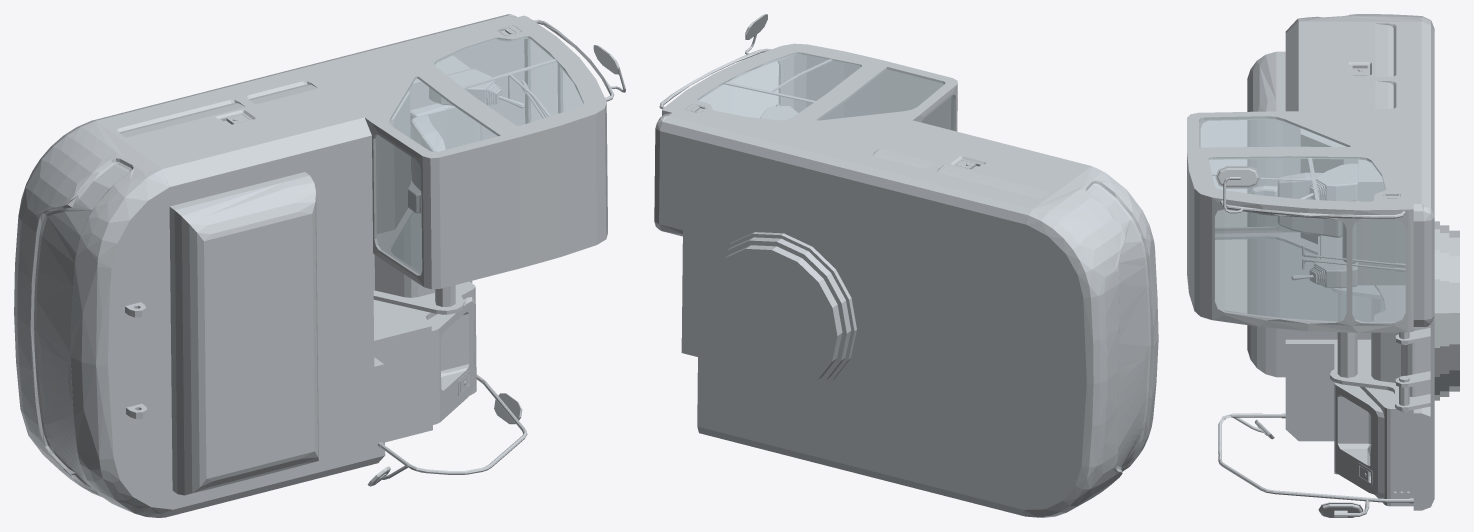
File: cabin.glb
The picture shows the model from 3 angles, left to right: view 1: azimuth 30°, elevation 25°; view 2: azimuth 150°, elevation 25°; view 3: azimuth 270°, elevation 25°; orthographic projection. The views are drawn at different scales.
Parts seen in each view (by area): view 1: cabin; view 2: cabin; view 3: cabin.
Boxes of the visible parts, x1=… form: cabin: x1=14, y1=14, x2=625, y2=517; cabin: x1=654, y1=14, x2=1158, y2=517; cabin: x1=1187, y1=14, x2=1459, y2=517.
Bounding box in the file's own units: 4207 × 3103 × 2066.
